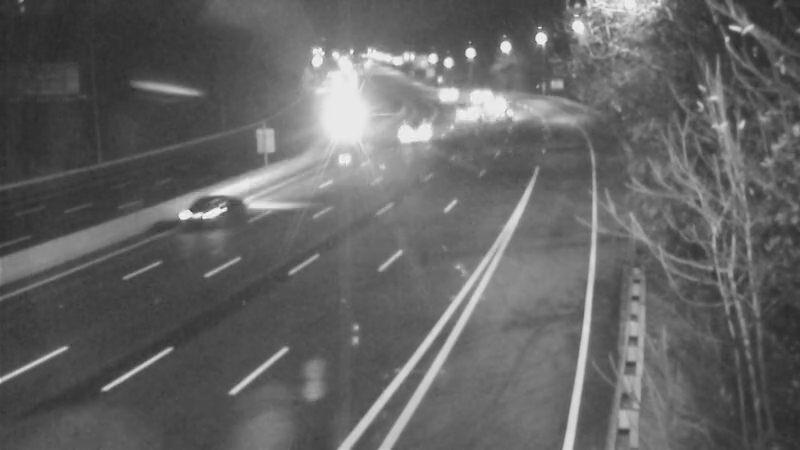vehicle: (162, 167, 242, 247), (418, 66, 468, 116), (453, 70, 503, 120), (467, 75, 517, 125), (442, 88, 492, 138), (474, 89, 524, 139), (389, 106, 439, 156), (313, 92, 363, 142)
